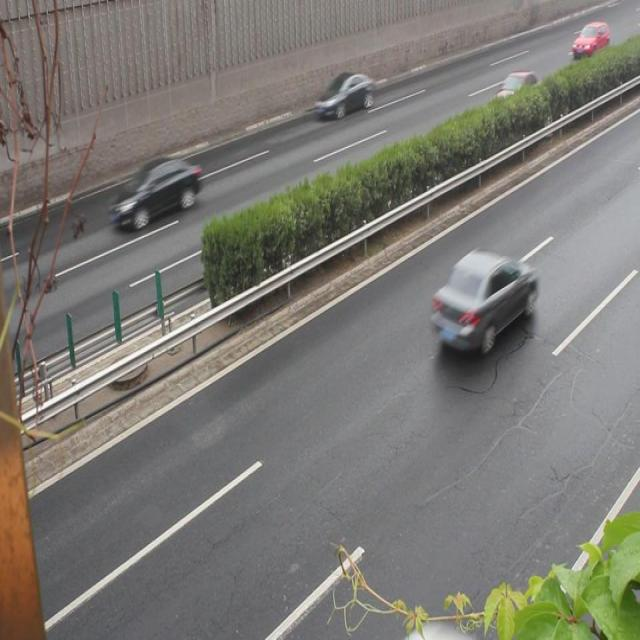car: (429, 248, 534, 354), (111, 158, 203, 230), (487, 70, 543, 124), (315, 71, 372, 120), (570, 21, 607, 57)
